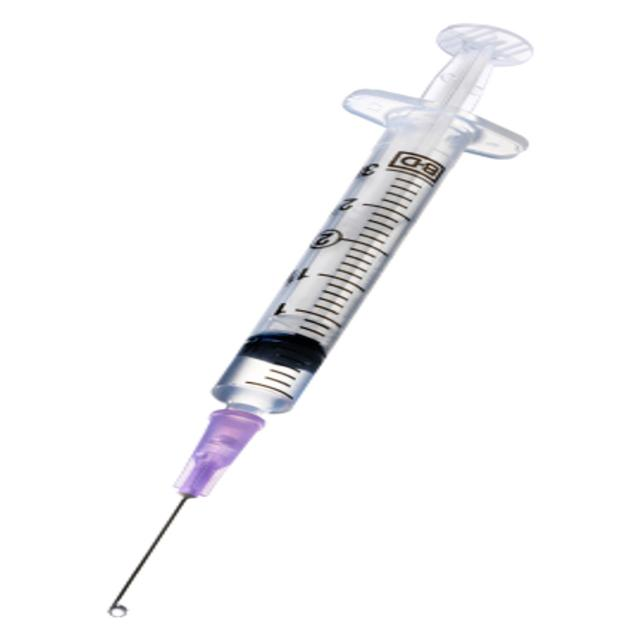syringe: (105, 21, 534, 617)
